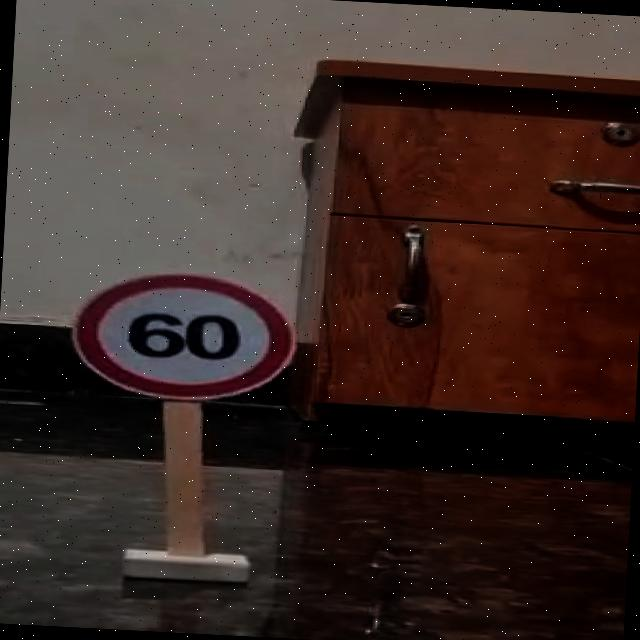Speed60: (48, 256, 318, 418)
